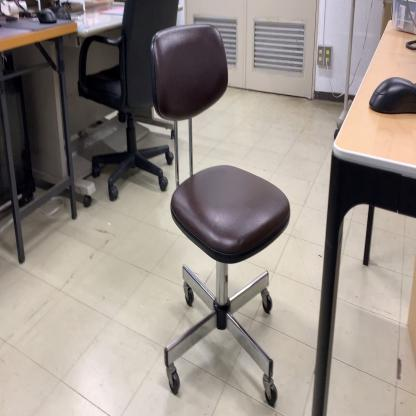chair: (149, 22, 291, 407), (76, 0, 180, 203)
